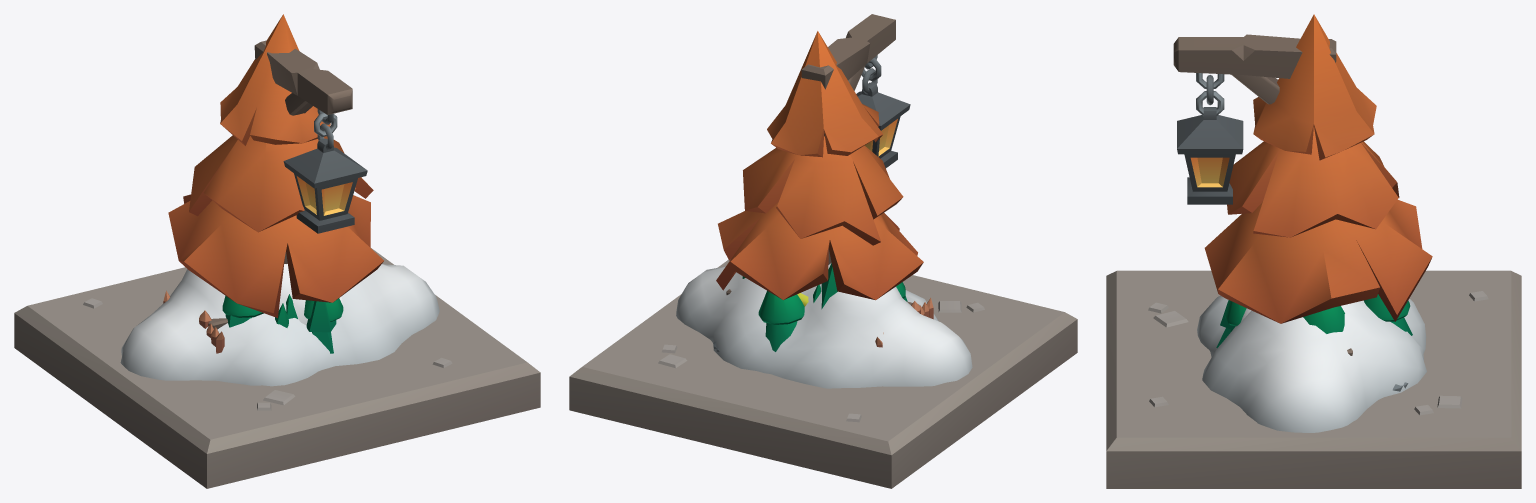
Rendered from kaykit.glb.
The picture shows the model from 3 angles, left to right: view 1: azimuth 30°, elevation 25°; view 2: azimuth 150°, elevation 25°; view 3: azimuth 270°, elevation 25°; orthographic projection. The views are drawn at different scales.
Parts seen in each view (by area): view 1: floor_dirt, tree_pine_orange_small, cloud_big, post_lantern_lantern, Cube.124, trees_A_medium, trees_B_medium, cloud_small; view 2: floor_dirt, tree_pine_orange_small, cloud_big, Cube.124, post_lantern_lantern, trees_B_medium; view 3: floor_dirt, tree_pine_orange_small, cloud_big, Cube.124, post_lantern_lantern, trees_B_medium.
Boxes of the visible parts, x1,y1,x2,y2 form: floor_dirt: [14, 248, 540, 488]; tree_pine_orange_small: [168, 14, 383, 317]; cloud_big: [120, 263, 439, 386]; post_lantern_lantern: [283, 109, 367, 233]; Cube.124: [254, 40, 352, 115]; trees_A_medium: [225, 301, 336, 353]; trees_B_medium: [222, 295, 343, 321]; cloud_small: [279, 272, 343, 325]; floor_dirt: [569, 260, 1077, 488]; tree_pine_orange_small: [716, 31, 923, 300]; cloud_big: [676, 263, 972, 388]; Cube.124: [801, 14, 895, 264]; post_lantern_lantern: [856, 55, 910, 168]; trees_B_medium: [742, 276, 905, 351]; floor_dirt: [1106, 270, 1521, 488]; tree_pine_orange_small: [1204, 14, 1432, 323]; cloud_big: [1197, 295, 1426, 432]; Cube.124: [1173, 34, 1336, 104]; post_lantern_lantern: [1177, 73, 1243, 204]; trees_B_medium: [1225, 294, 1412, 335].
Bounding box in the file's own units: 4 × 4.56 × 4.
5 materials, 5 textured.
